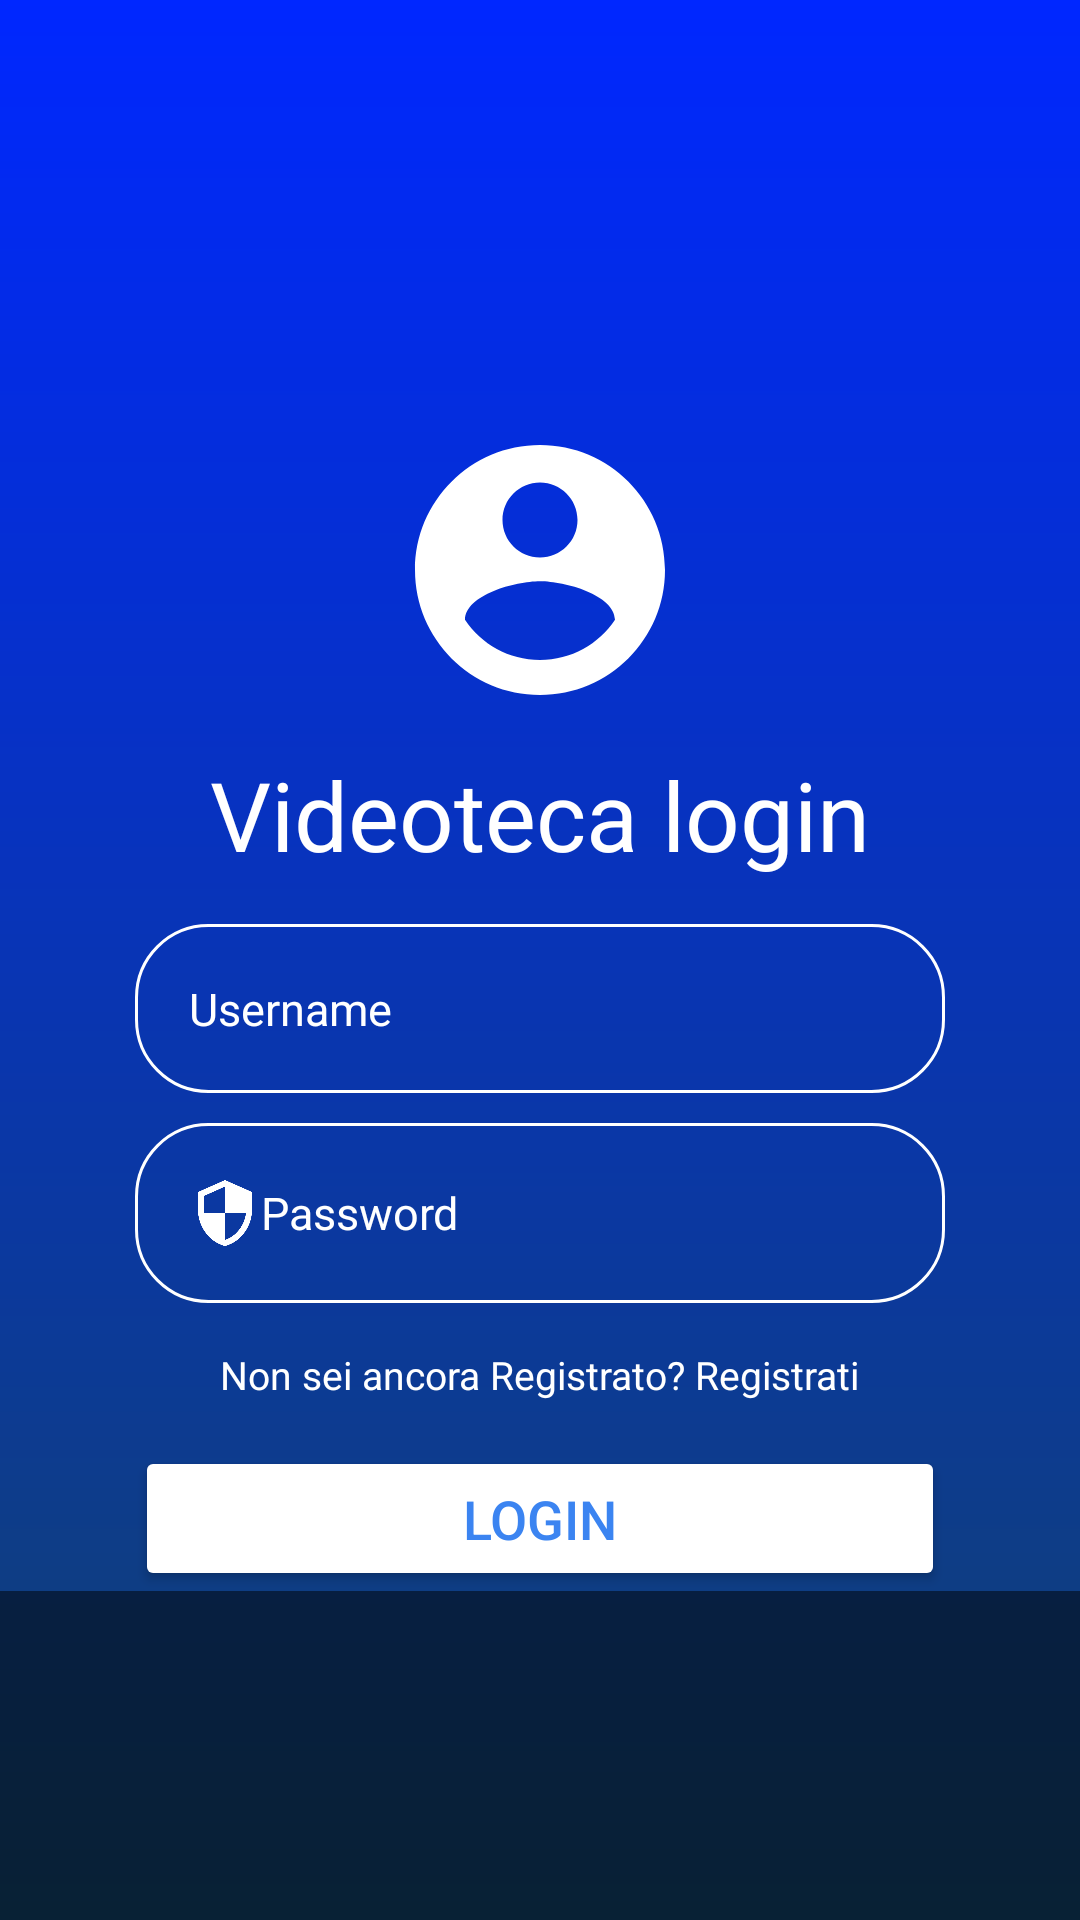

Where icons sit on this 1080 × 1920 app screen, as (x1, y1, x2, y2):
account circle: (415, 445, 665, 695)
